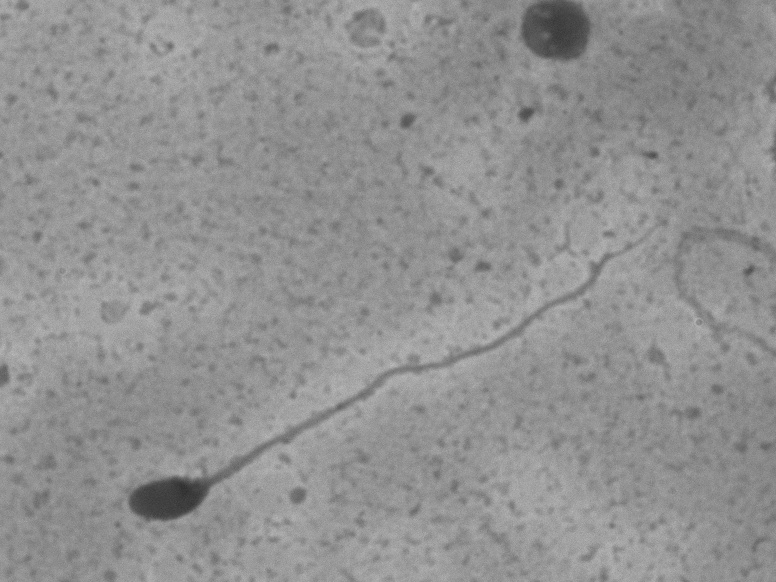Abnormal: (113, 207, 688, 542)
